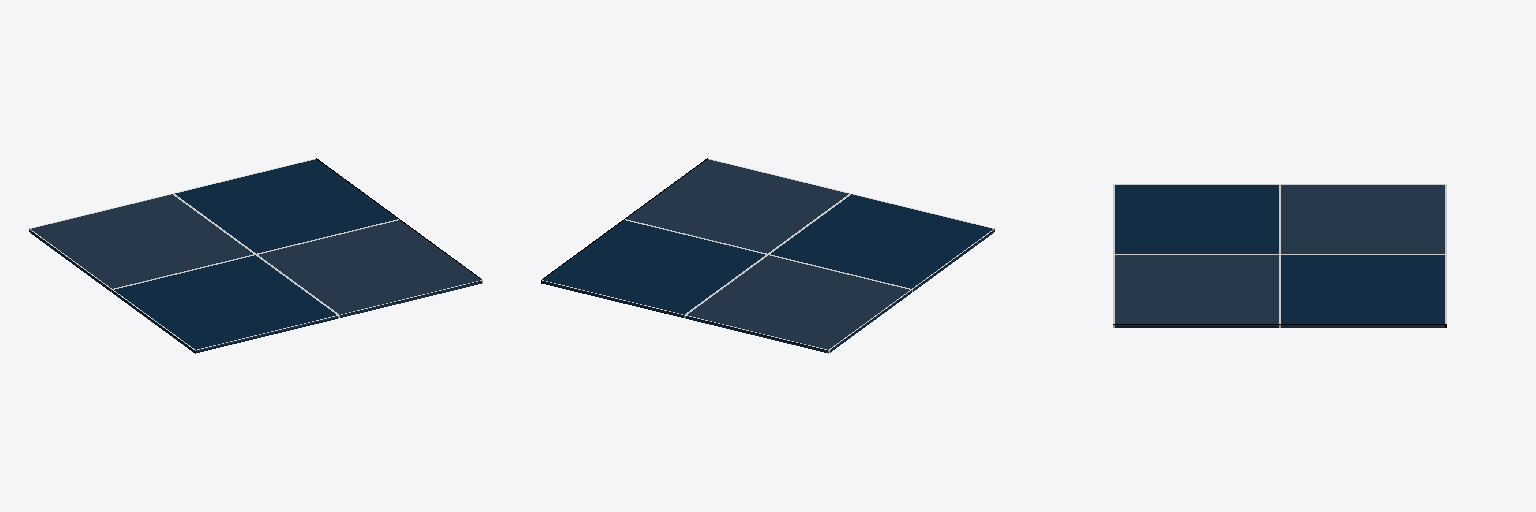
The picture shows the model from 3 angles: view 1: azimuth 30°, elevation 25°; view 2: azimuth 150°, elevation 25°; view 3: azimuth 270°, elevation 25°; orthographic projection.
Parts seen in each view (by area): view 1: Cube.001; view 2: Cube.001; view 3: Cube.001.
Part boxes in pixels (bbox=[...]): Cube.001: bbox=[29, 158, 482, 353]; Cube.001: bbox=[541, 158, 994, 353]; Cube.001: bbox=[1113, 184, 1446, 327].
Bounding box in the file's own units: 20 × 0.2 × 20.
Materials: 1 (1 with a texture image).